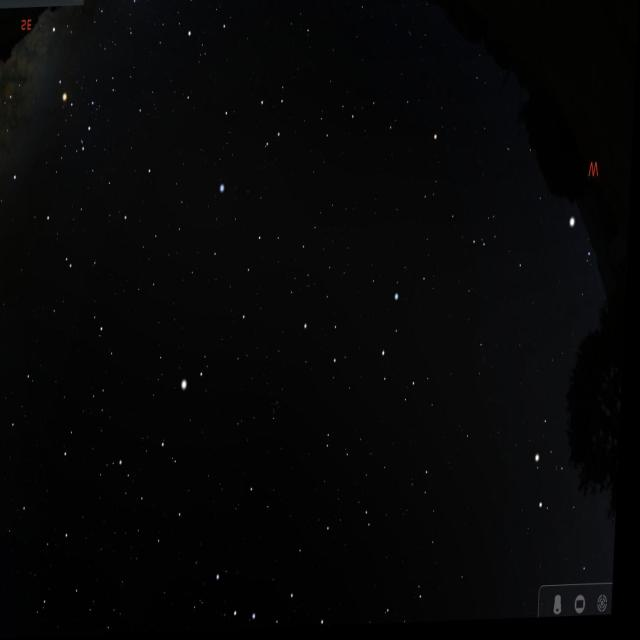bootes: (128, 358, 208, 570)
leo: (292, 274, 436, 444)
scorpius: (17, 16, 109, 170)
